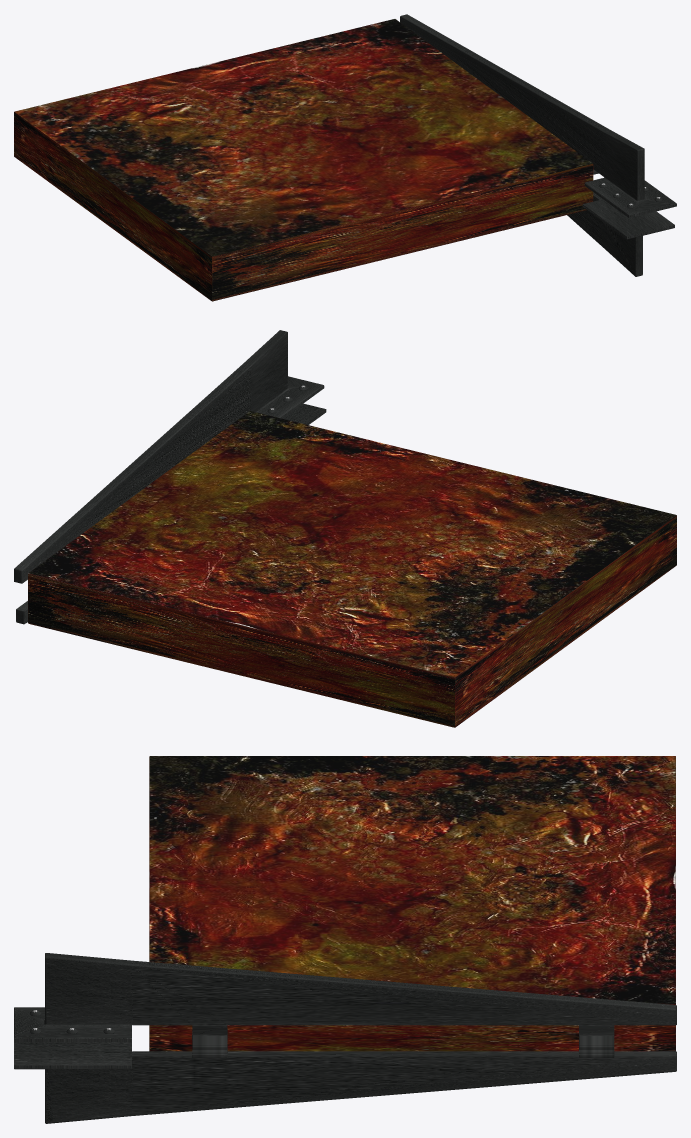
The model's file is Gate.obj.
3 views of the same model, one above another, from view 1: azimuth 30°, elevation 25°; view 2: azimuth 150°, elevation 25°; view 3: azimuth 270°, elevation 25° (orthographic). The views are drawn at different scales.
Visible parts, largest first — view 1: Box01.001, Box03.003_Box03.002, Box03.003, Box03.001_Box03; view 2: Box01.001, Box03.003_Box03.002; view 3: Box01.001, Box03.003_Box03.002, Box03.003, Box03.001_Box03.
Boxes of the visible parts, left/top/right/bottom form: Box01.001: left=14, top=19, right=593, bottom=301; Box03.003_Box03.002: left=400, top=14, right=676, bottom=217; Box03.003: left=567, top=169, right=674, bottom=276; Box03.001_Box03: left=567, top=192, right=674, bottom=274; Box01.001: left=28, top=411, right=676, bottom=727; Box03.003_Box03.002: left=14, top=330, right=324, bottom=583; Box01.001: left=149, top=756, right=675, bottom=1051; Box03.003_Box03.002: left=14, top=953, right=676, bottom=1057; Box03.003: left=14, top=1035, right=676, bottom=1123; Box03.001_Box03: left=14, top=1028, right=676, bottom=1123.
Bounding box in the file's own units: 38.48 × 11.23 × 40.14.
